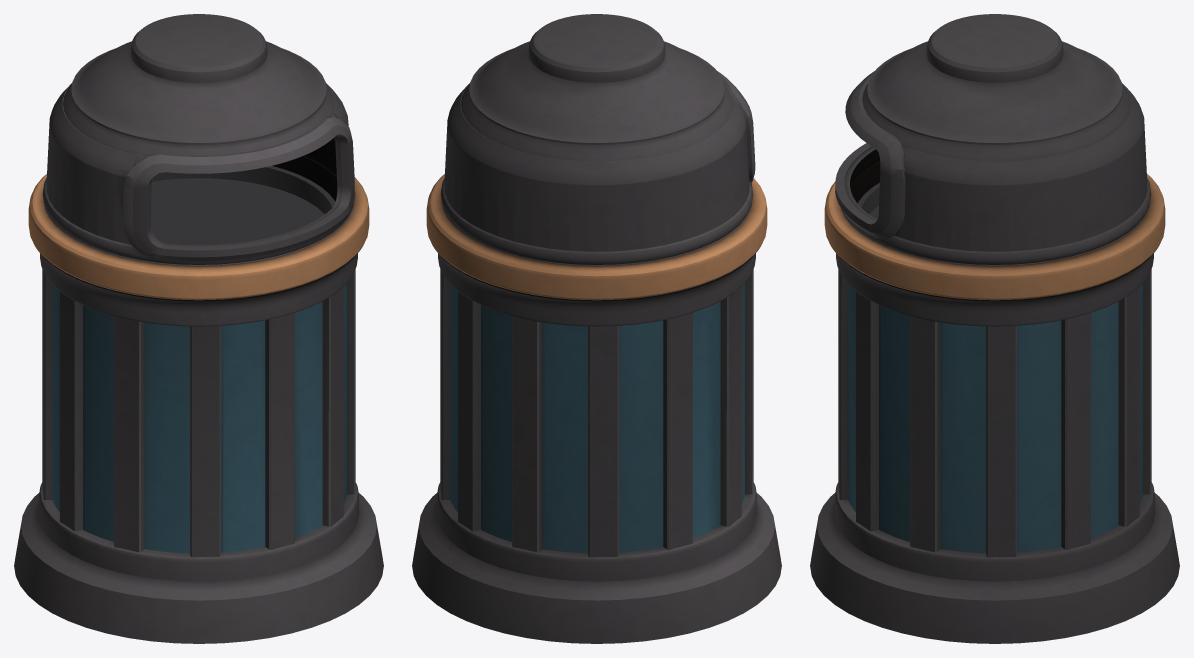
Rendered from houdini_dome_bin.glb.
3 renders of one model, left to right at view 1: azimuth 30°, elevation 25°; view 2: azimuth 150°, elevation 25°; view 3: azimuth 270°, elevation 25°, orthographic.
Visible parts, largest first — view 1: LOD0; view 2: LOD0; view 3: LOD0.
Boxes of the visible parts, <box> form: LOD0: <box>14,14,383,643</box>; LOD0: <box>412,14,781,643</box>; LOD0: <box>810,14,1179,643</box>.
Size of what is drawn, in the model's own units: 0.634 by 1 by 0.634.
2 materials, 2 textured.
